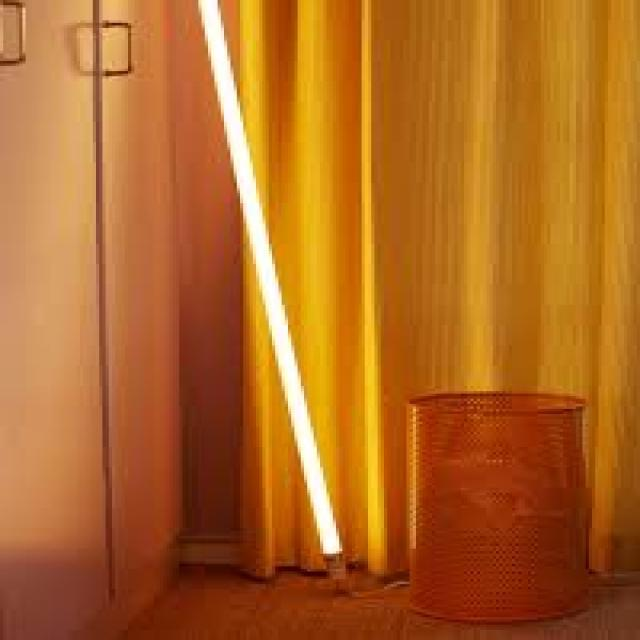tubelight_on: (189, 0, 360, 595)
